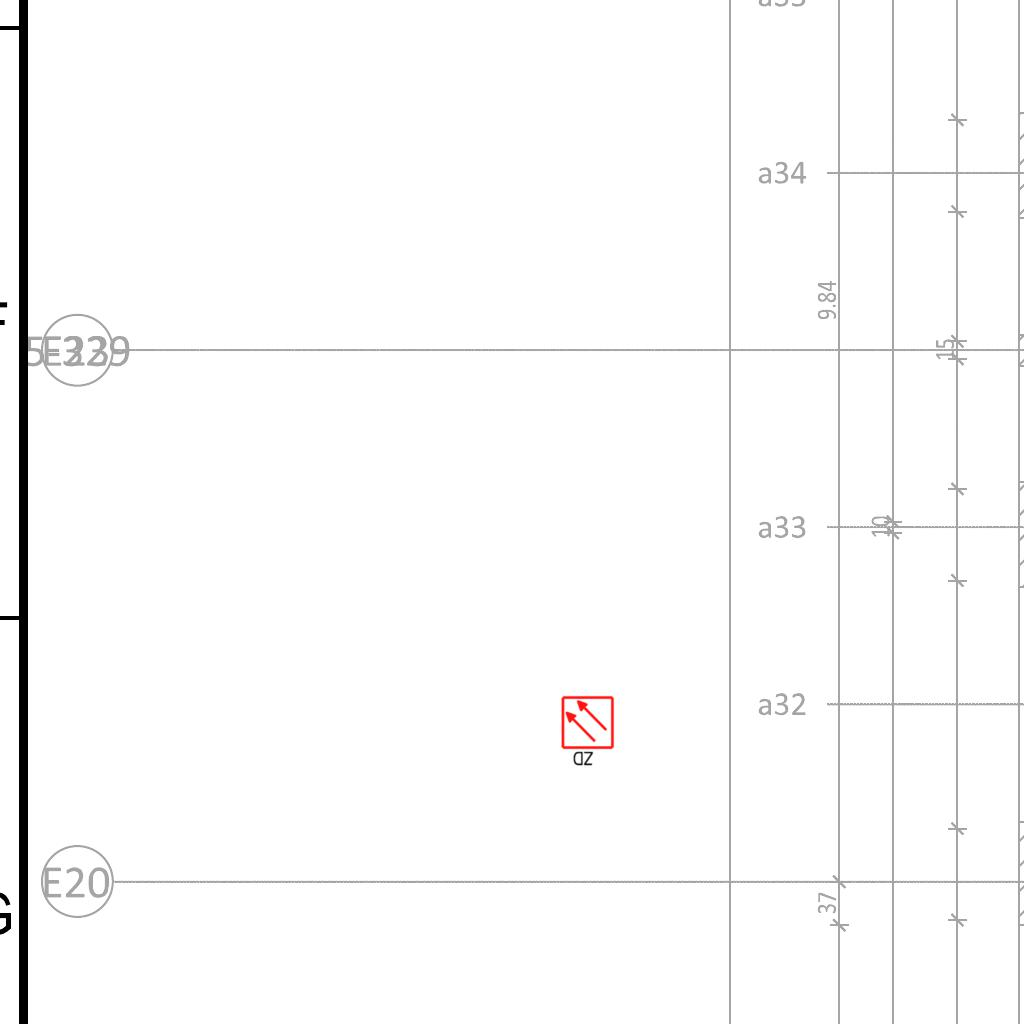ZD_Melder_in_Zwischendecke_mit_Revisionsoeffnung_mind_40_x_40_cm: (560, 695, 617, 769)
